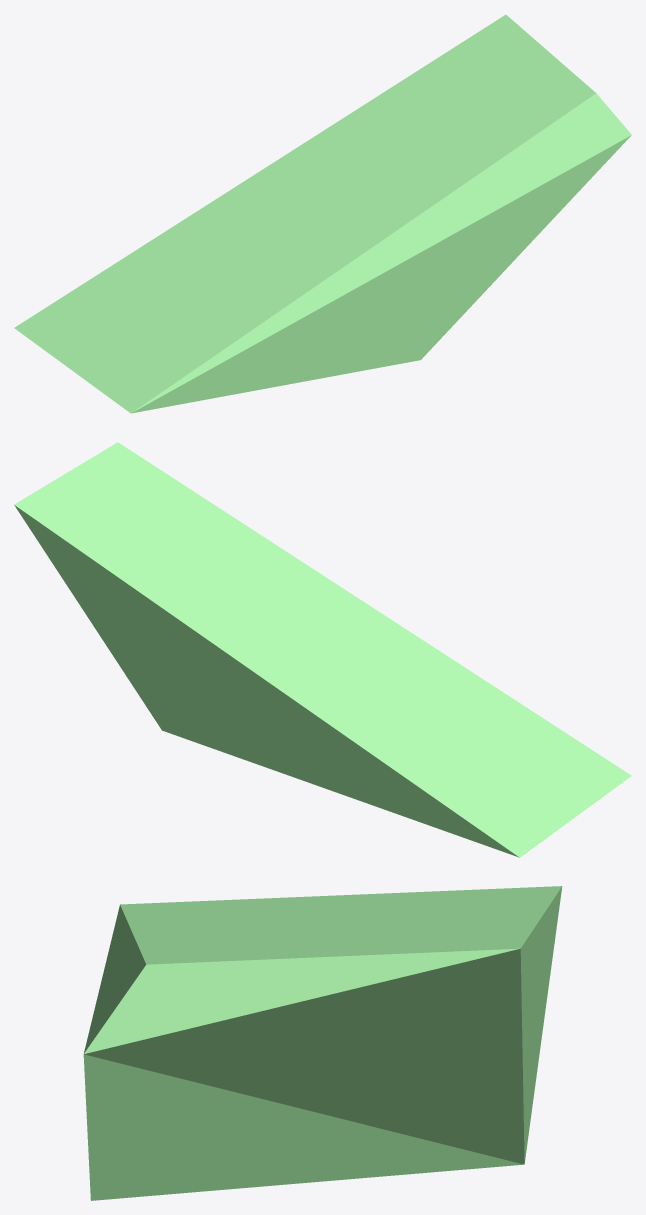
File: exported_panda_rightFinger_coll_7.dae
3 views of the same model, one above another, from view 1: azimuth 30°, elevation 25°; view 2: azimuth 150°, elevation 25°; view 3: azimuth 270°, elevation 25° (orthographic). The views are drawn at different scales.
Parts seen in each view (by area): view 1: node; view 2: node; view 3: node.
Part boxes in pixels (x1=…): node: x1=14, y1=14, x2=631, y2=413; node: x1=14, y1=442, x2=631, y2=857; node: x1=83, y1=886, x2=562, y2=1200.
Size of the model in its own units: 0.00553 by 0.00233 by 0.0023.
